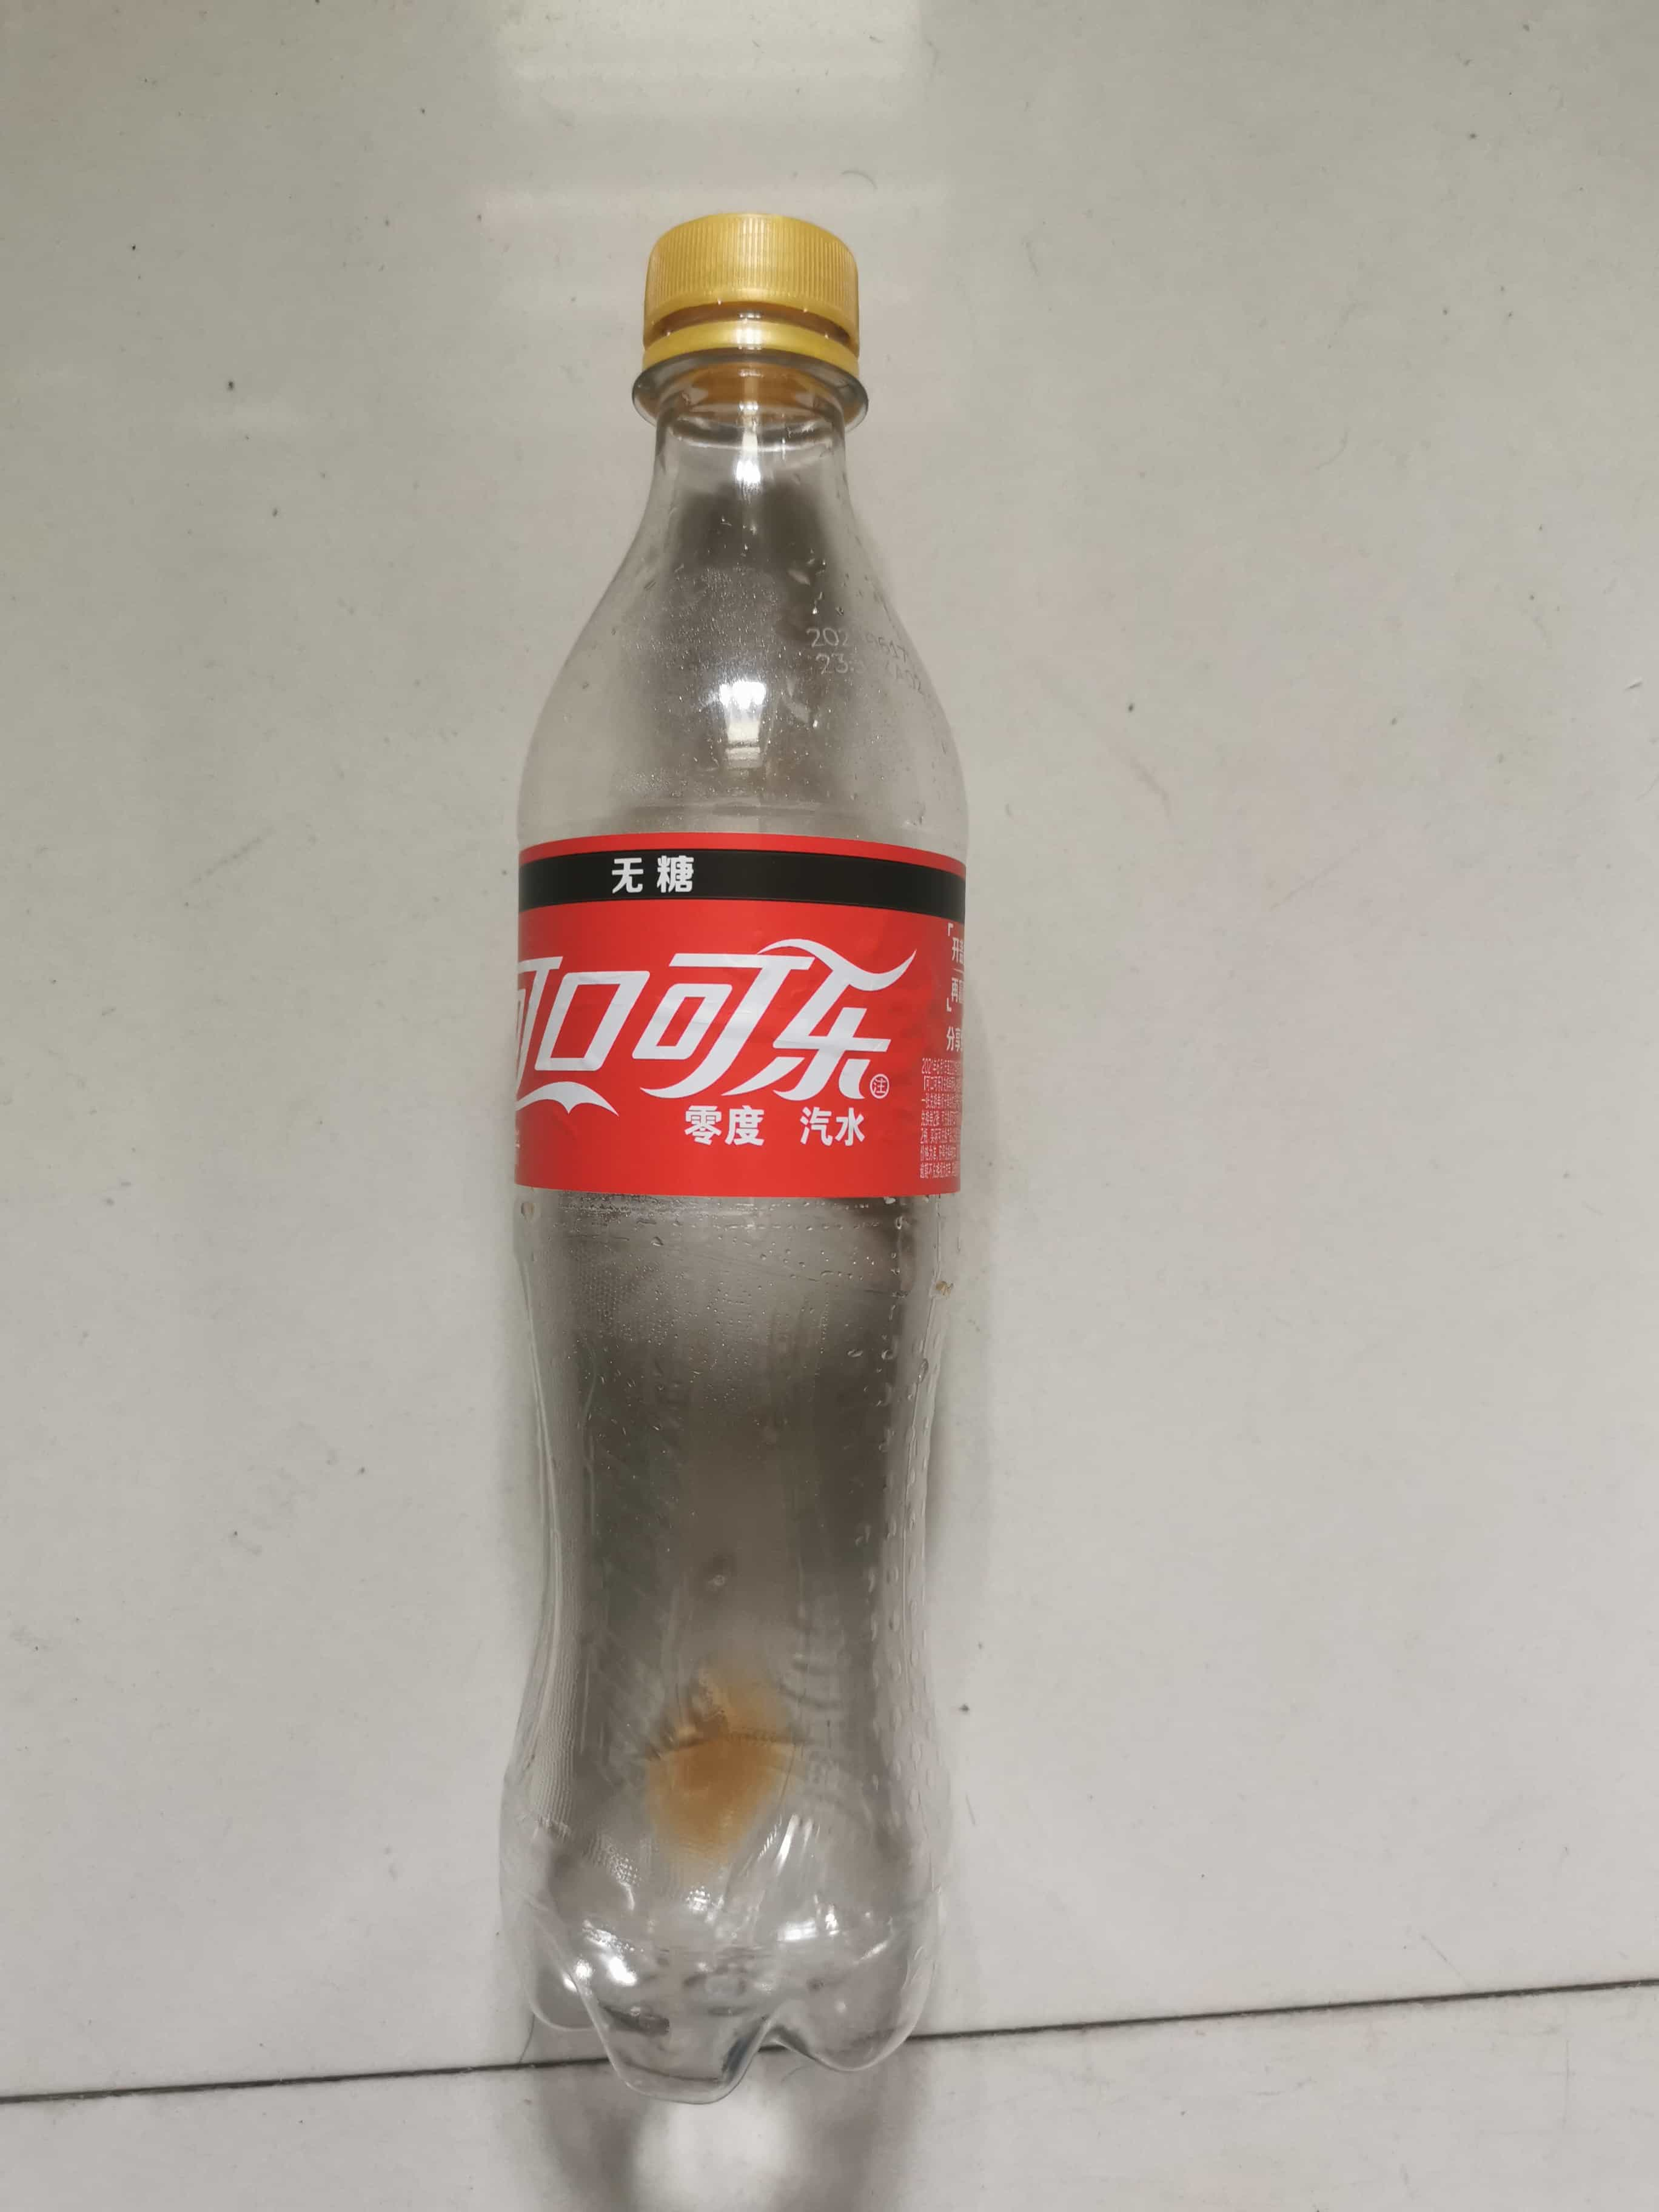plastic_bottle: (476, 195, 997, 2120)
